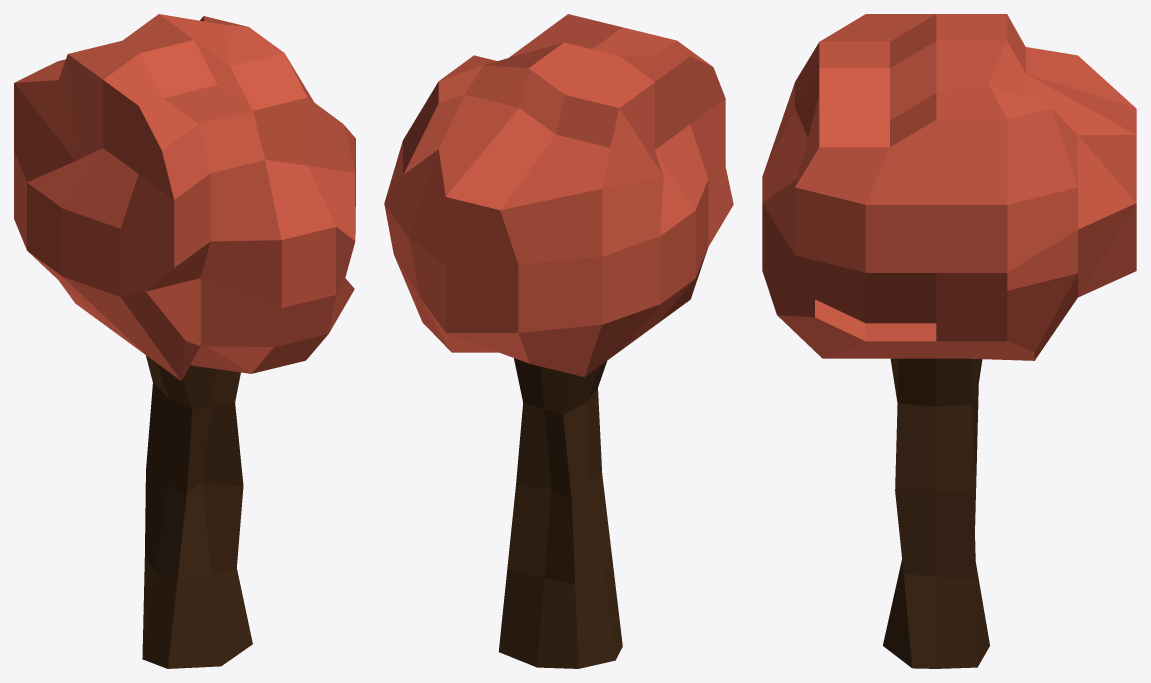
The model's file is Ndrzewko1 inny kolorek.fbx.
3 views of the same model, side by side, from view 1: azimuth 30°, elevation 25°; view 2: azimuth 150°, elevation 25°; view 3: azimuth 270°, elevation 25° (orthographic).
Visible parts, largest first — view 1: Cube.001, Cube; view 2: Cube.001, Cube; view 3: Cube.001, Cube.
Part boxes in pixels (x1=…): Cube.001: x1=14, y1=14, x2=355, y2=380; Cube: x1=142, y1=355, x2=252, y2=668; Cube.001: x1=384, y1=14, x2=733, y2=377; Cube: x1=498, y1=358, x2=622, y2=668; Cube.001: x1=762, y1=14, x2=1136, y2=360; Cube: x1=883, y1=358, x2=989, y2=668.
Size of the model in its own units: 879 by 1906 by 1068.
